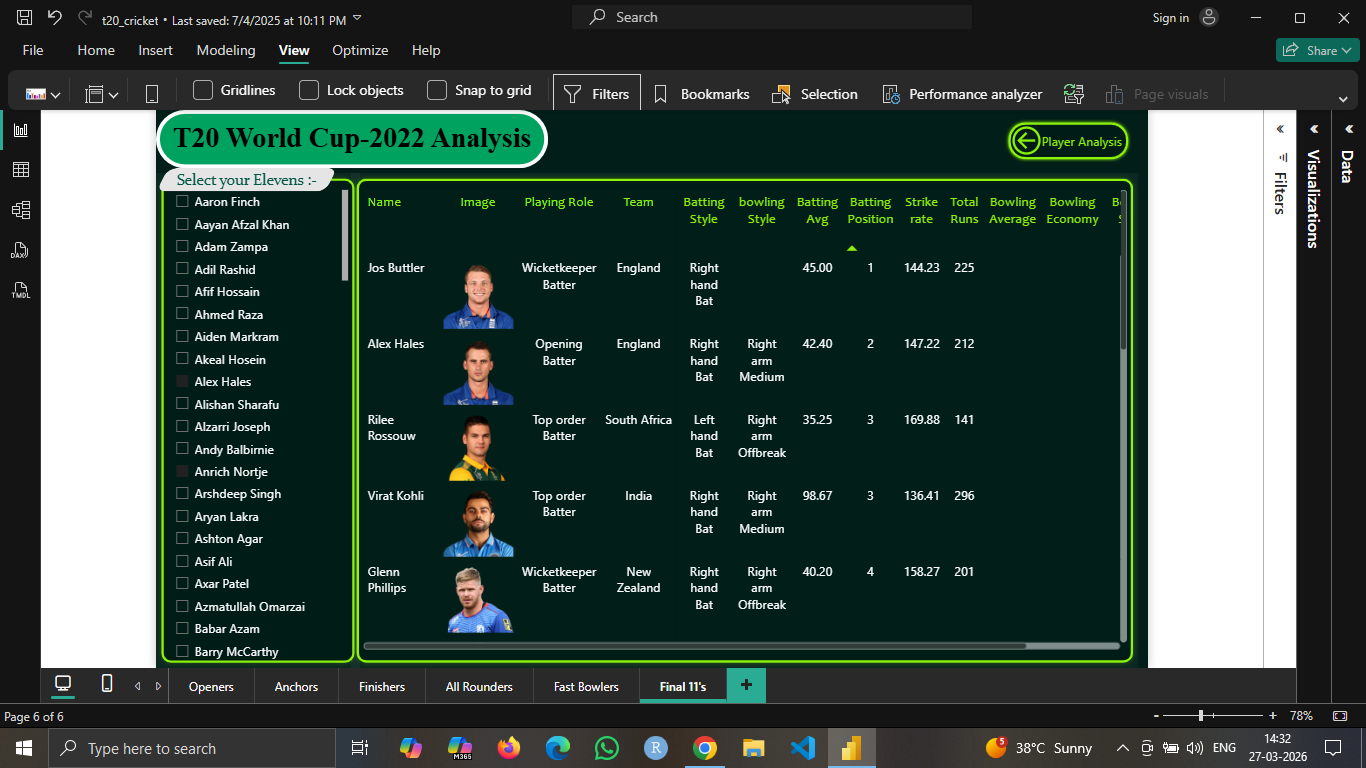

The dashboard page shown, as its layout file describes it:
{"tool":"powerbi","page":{"name":"Final 11's","canvas":[1280,720],"ordinal":5},"visuals":[{"type":"shape","box":[251.6,81,1016.4,639],"z":0},{"type":"shape","box":[0,81,263.1,639],"z":1000},{"type":"shape","box":[0,0,506,75.2],"z":2000},{"type":"shape","box":[0,5.8,506,62.2],"z":3000},{"type":"slicer","fields":{"Values":["dim_players.name"]},"box":[13,98.3,240,621.7],"z":4000},{"type":"shape","box":[0,75.2,234.2,30.4],"z":5000},{"type":"actionButton","box":[1095.9,11.6,163.4,56.4],"z":6000},{"type":"tableEx","fields":{"Values":["dim_players.name","dim_players.image","dim_players.playingRole","dim_players.team","dim_players.battingStyle","dim_players.bowlingStyle","Key measures.Batting Avg","Key measures.Batting Position","Key measures.Strike rate","Key measures.Total Runs","Key measures.Bowling Average","Key measures.Bowling Economy"]},"box":[263.1,98.3,996.1,602.9],"z":7000}]}

Visuals, with their boxes on the page's 1280x720 design canvas (x1, y1, x2, y2). These are canvas units, not pixel positions in the 1366x768 screenshot, which may show the page scaled, cropped or inside an application window:
shape: left=252, top=81, right=1268, bottom=720
shape: left=0, top=81, right=263, bottom=720
shape: left=0, top=0, right=506, bottom=75
shape: left=0, top=6, right=506, bottom=68
slicer - dim_players.name: left=13, top=98, right=253, bottom=720
shape: left=0, top=75, right=234, bottom=106
actionButton: left=1096, top=12, right=1259, bottom=68
tableEx - dim_players.name x dim_players.image: left=263, top=98, right=1259, bottom=701
